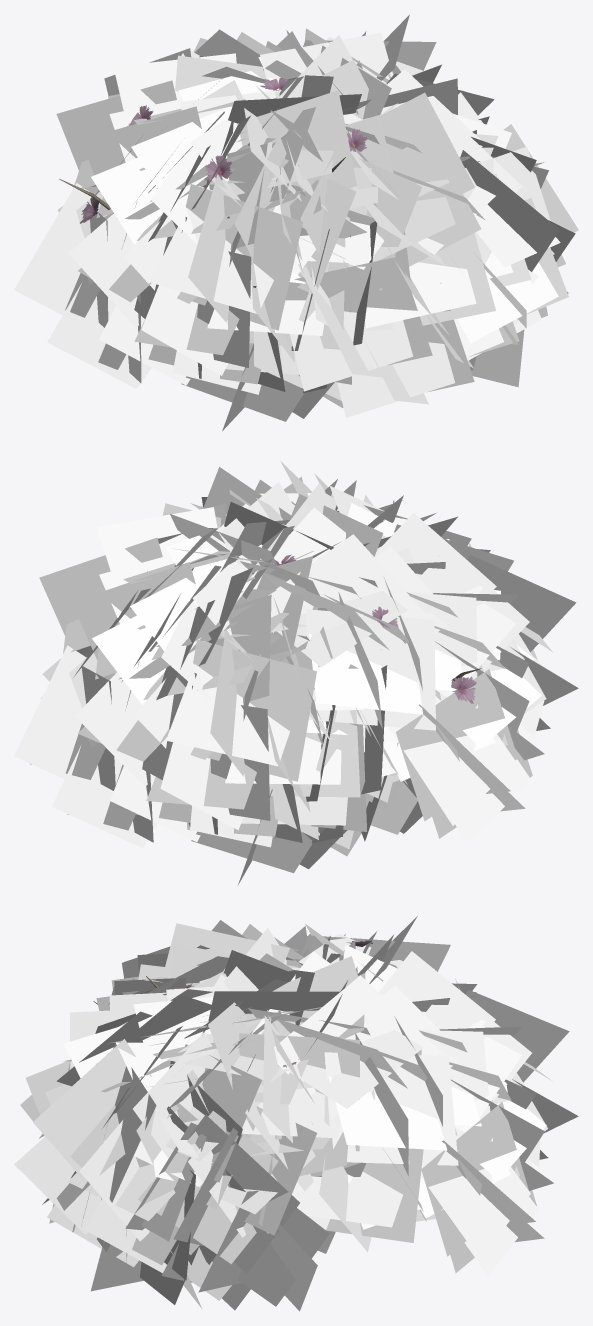
File: Flower_F_01.fbx
3 views of the same model, one above another, from view 1: azimuth 30°, elevation 25°; view 2: azimuth 150°, elevation 25°; view 3: azimuth 270°, elevation 25° (orthographic).
Parts seen in each view (by area): view 1: Flower_F_01; view 2: Flower_F_01; view 3: Flower_F_01.
Boxes of the visible parts, x1,y1,x2,y2 form: Flower_F_01: (14,14,578,431); Flower_F_01: (14,460,578,885); Flower_F_01: (14,916,578,1311).
Bounding box in the file's own units: 217 × 135 × 226.
Materials: 3 (3 with a texture image).
